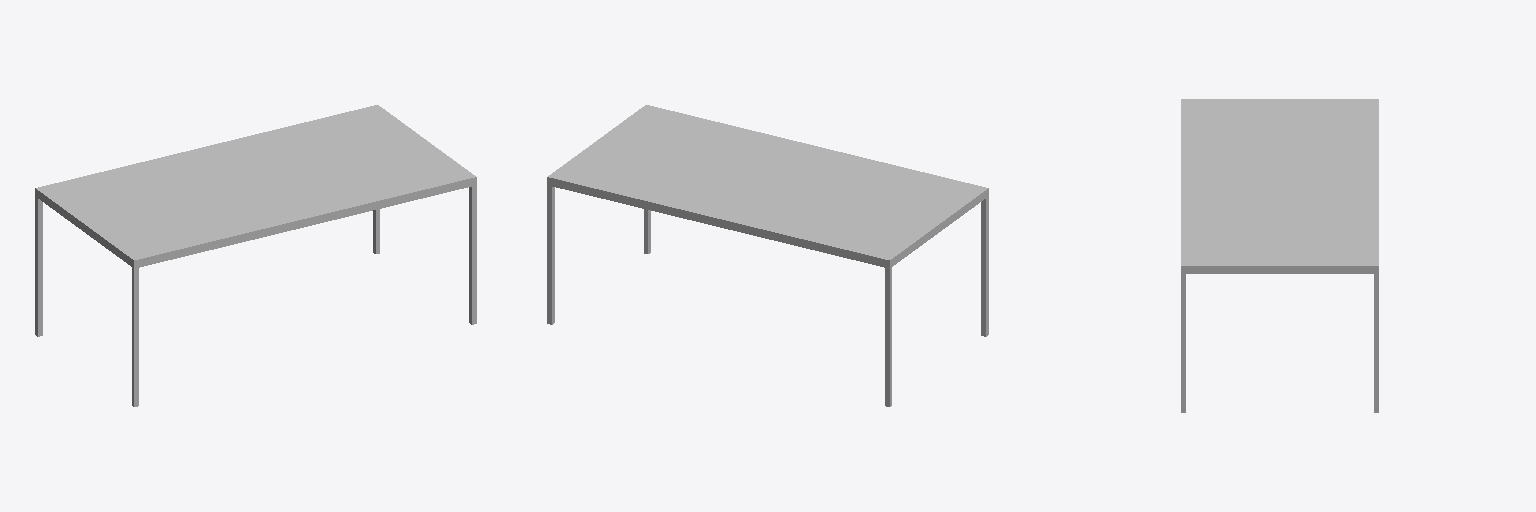
The model's file is Mesas.obj.
3 views of the same model, side by side, from view 1: azimuth 30°, elevation 25°; view 2: azimuth 150°, elevation 25°; view 3: azimuth 270°, elevation 25° (orthographic).
Visible parts, largest first — view 1: top_Material.001_0, Cube.001_Material.001_0, Cube.003_Material.001_0, Cube_Material.001_0; view 2: top_Material.001_0, Cube.001_Material.001_0, Cube.002_Material.001_0, Cube_Material.001_0; view 3: top_Material.001_0, Cube_Material.001_0.
Boxes of the visible parts, <box> form: top_Material.001_0: <box>35,105,476,263</box>; Cube.001_Material.001_0: <box>35,192,138,406</box>; Cube.003_Material.001_0: <box>139,182,471,267</box>; Cube_Material.001_0: <box>373,181,476,324</box>; top_Material.001_0: <box>547,105,988,263</box>; Cube.001_Material.001_0: <box>885,192,988,406</box>; Cube.002_Material.001_0: <box>552,182,884,267</box>; Cube_Material.001_0: <box>547,181,650,324</box>; top_Material.001_0: <box>1181,99,1378,269</box>; Cube_Material.001_0: <box>1181,270,1378,412</box>.
Size of the model in its own units: 150 by 61.5 by 75.08.